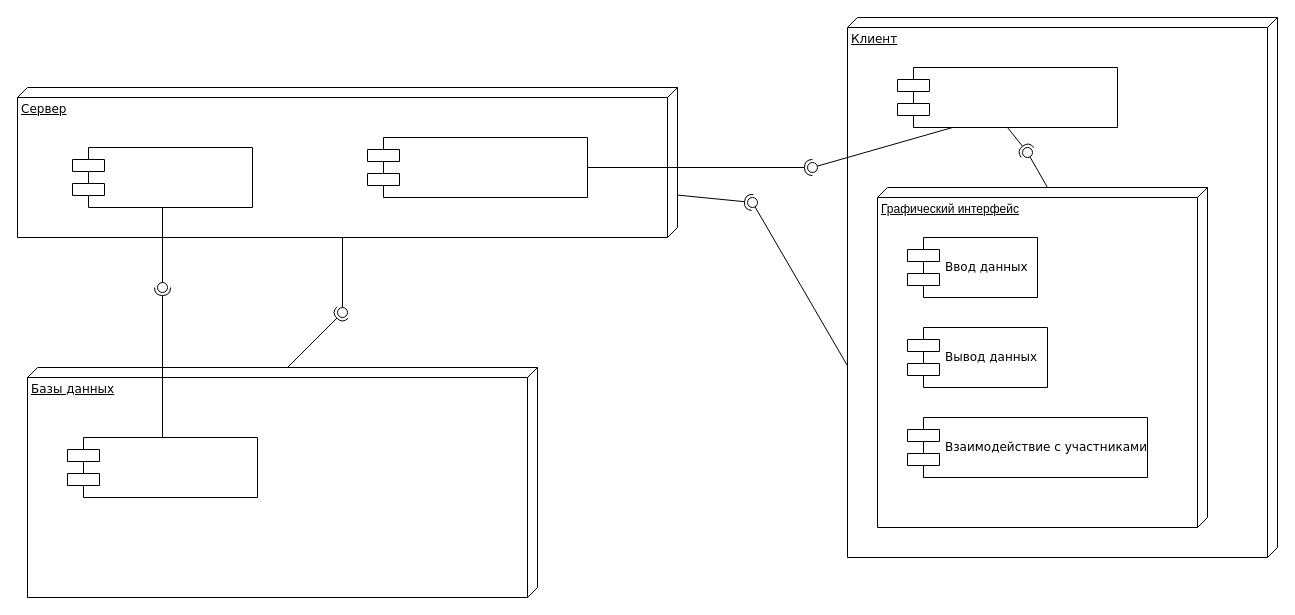
The diagram is 1295 pixels wide and 615 high, and some of its shapes have lost their labels. Each missing label, with the centre of its shape:
"Данные о комнате чата" belongs at point 162,467.
"Обмен запросов с БД" belongs at point 162,177.
"Обмен запросов с клиентом" belongs at point 477,167.
"Обмен запросов с сервером" belongs at point 1007,97.
